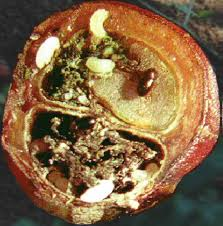broca de cafe: (18, 3, 189, 217)
